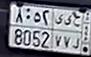0: (23, 13, 31, 47)
2: (41, 8, 50, 49)
5: (32, 11, 41, 47)
8: (13, 7, 23, 45)
J: (71, 15, 81, 49)
V: (54, 13, 63, 47), (64, 14, 72, 49)
